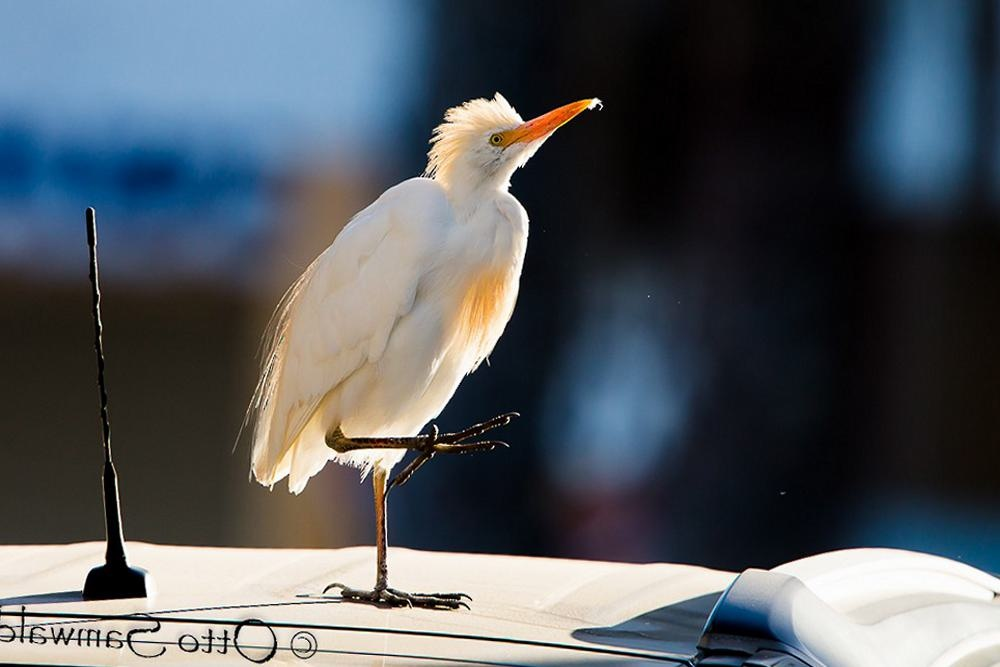egret: (198, 73, 616, 631)
